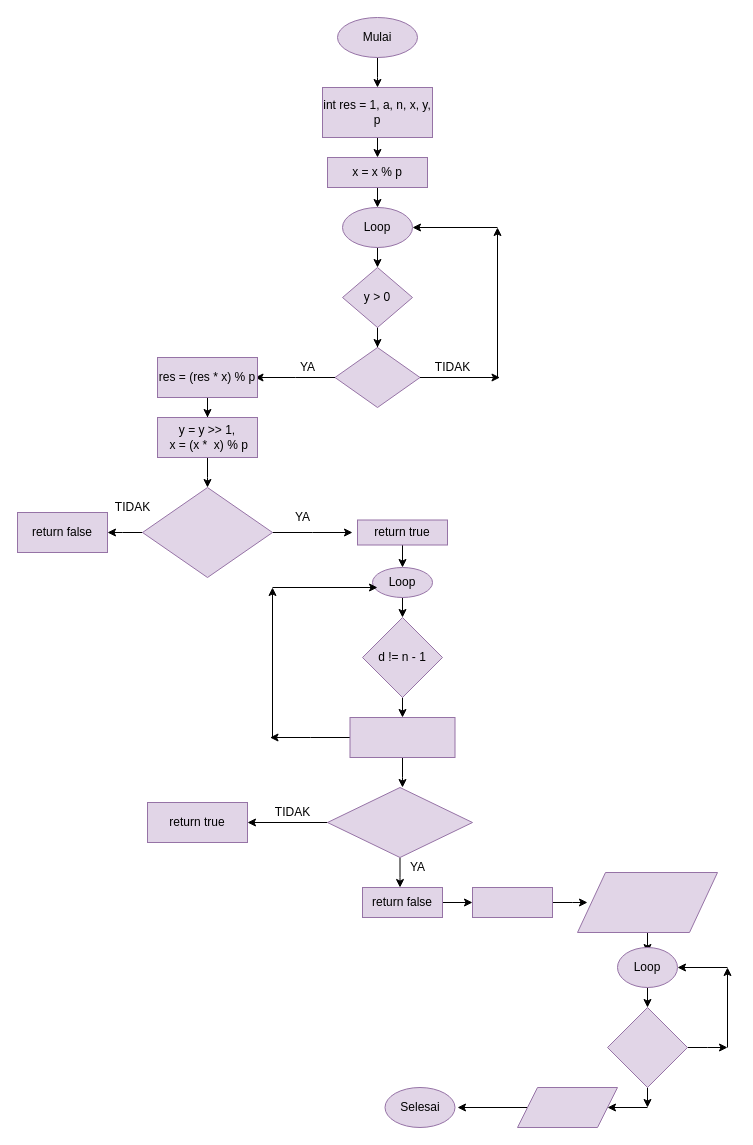
Some shapes in this 753 by 1145 pixel diagram are drawn without their labels. The centre of each missing label's shape, as x and y in pixels:
"if (y & 1) == 1" goes at (x=377, y=377).
"if n <= 1 || n == 4" goes at (x=399, y=822).
"if x == 1 || x == n - 1" goes at (x=207, y=532).
"int k = 4" goes at (x=512, y=902).
"int n = 1; n < 100; n++" goes at (x=647, y=1047).
"Print n" goes at (x=567, y=1107).
"Print Semua bilangan prima kecil dari 100" goes at (x=647, y=902).
"x = (x * x) % d *= 2" goes at (x=402, y=737).
